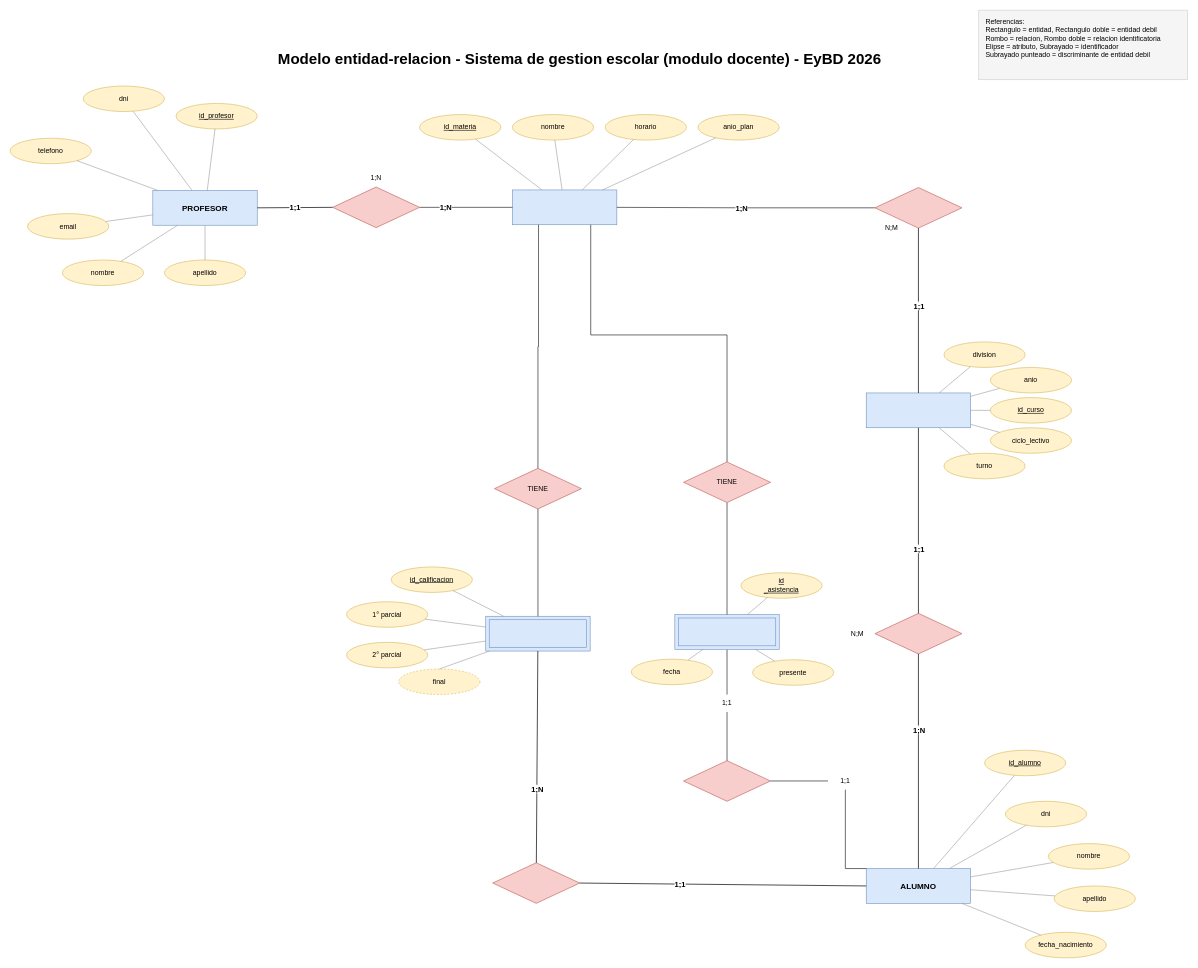
The diagram is 1198 pixels wide and 968 high, and some of its shapes have lost their labels. Each missing label, with the box of its shape:
ASISTE: (683, 760, 771, 801)
ASISTENCIA: (674, 614, 779, 649)
CALIFICACION: (485, 616, 590, 651)
CONTIENE: (874, 187, 962, 228)
CURSO: (866, 392, 971, 428)
ENSEÑA: (332, 186, 420, 228)
MATERIA: (512, 189, 617, 225)
PERTENECE: (874, 613, 962, 654)
RINDE: (492, 862, 580, 903)
